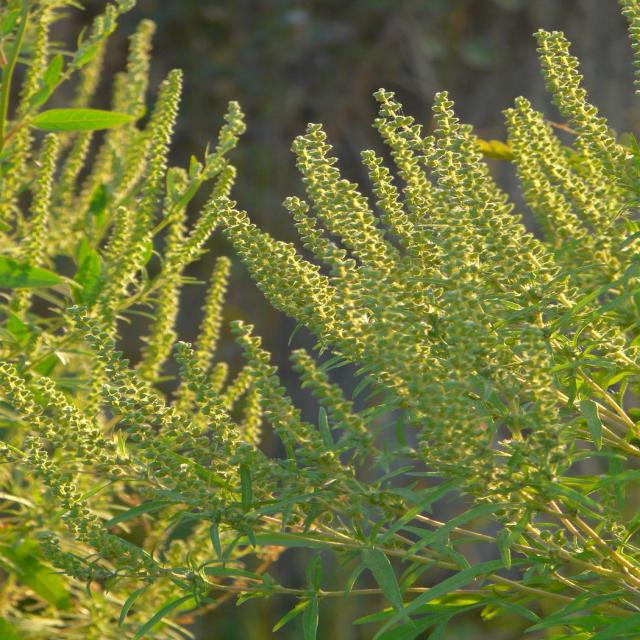ambrosia: (226, 112, 472, 416), (10, 6, 177, 290), (0, 331, 176, 543), (494, 46, 639, 272)
